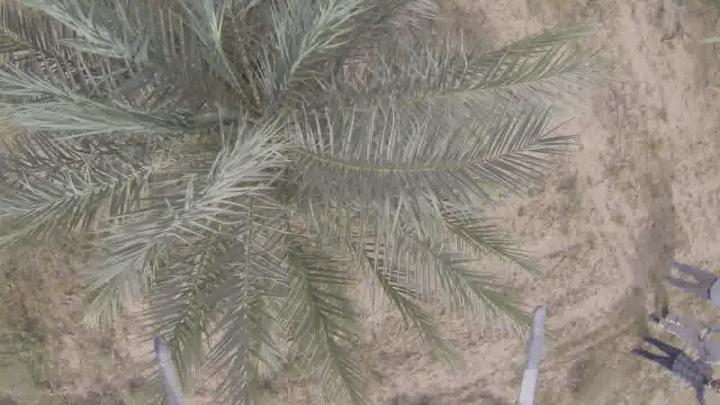Date-Palm-Crown: (84, 10, 426, 302)
